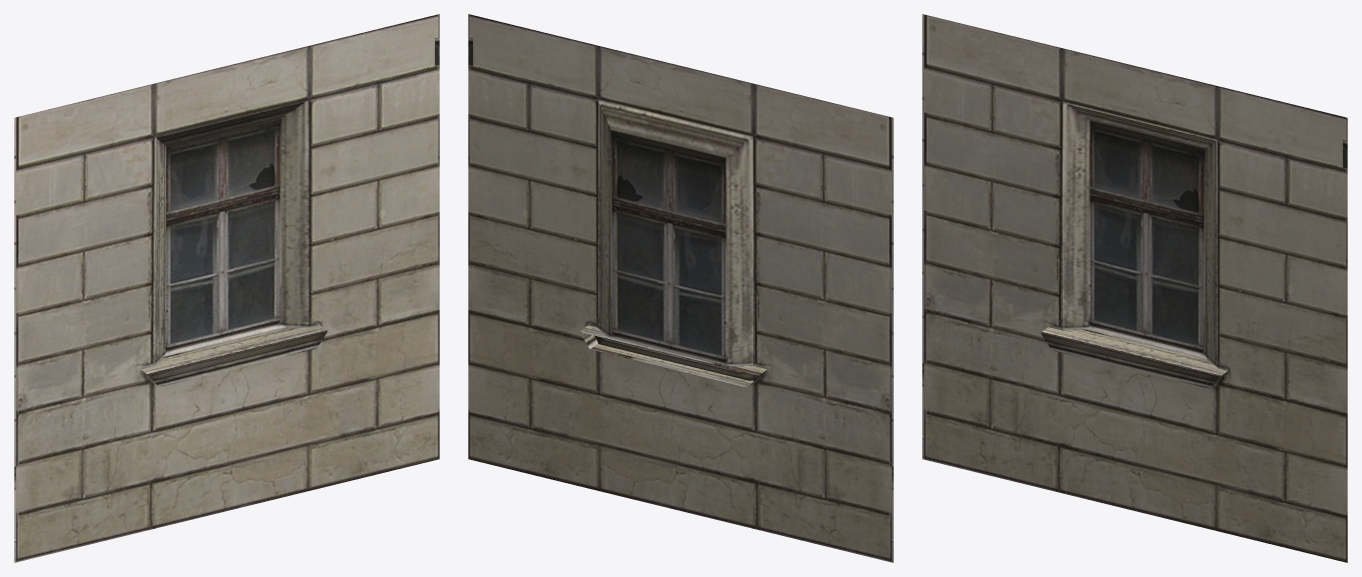
File: fenster2.obj
3 renders of one model, left to right at view 1: azimuth 30°, elevation 25°; view 2: azimuth 150°, elevation 25°; view 3: azimuth 330°, elevation 25°, orthographic.
Visible parts, largest first — view 1: polySurface10; view 2: polySurface10; view 3: polySurface10.
Part boxes in pixels (box(x1,y1,x2,y2)): polySurface10: box(14, 14, 439, 562); polySurface10: box(468, 14, 893, 562); polySurface10: box(922, 14, 1347, 562).
Size of the model in its own units: 0.5 by 0.5 by 0.0334.
Materials: 1 (1 with a texture image).
